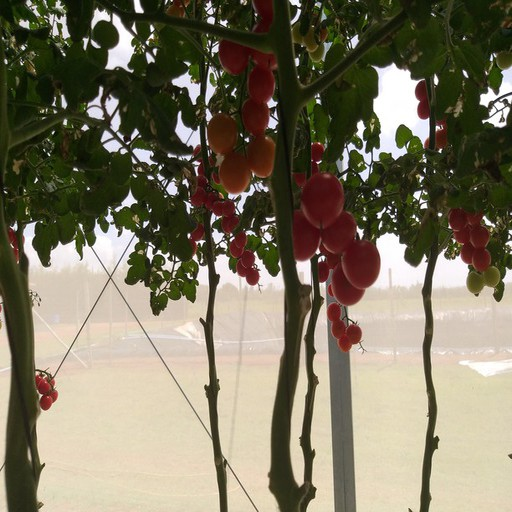green tomato bunch: (293, 7, 329, 61)
red tomato bunch: (206, 1, 277, 190), (288, 172, 381, 303), (195, 175, 259, 283), (417, 81, 458, 160), (449, 201, 492, 270), (31, 371, 56, 411)
